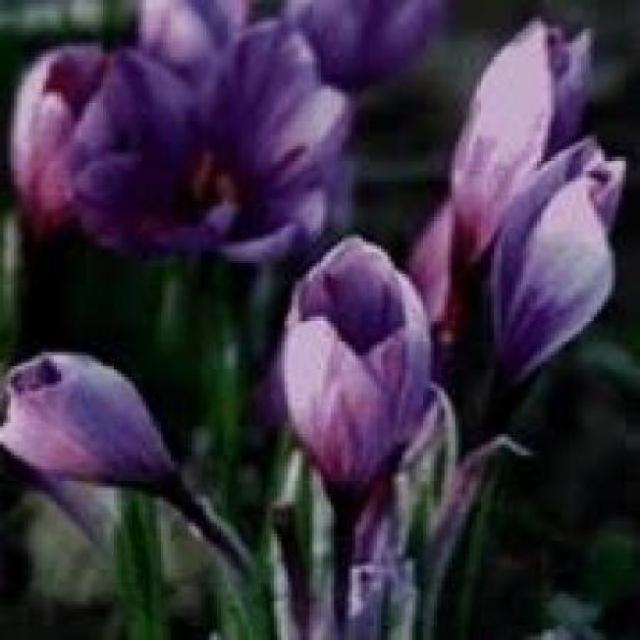Flower: (89, 31, 357, 267), (283, 234, 431, 528), (480, 130, 628, 402), (0, 349, 191, 497)
